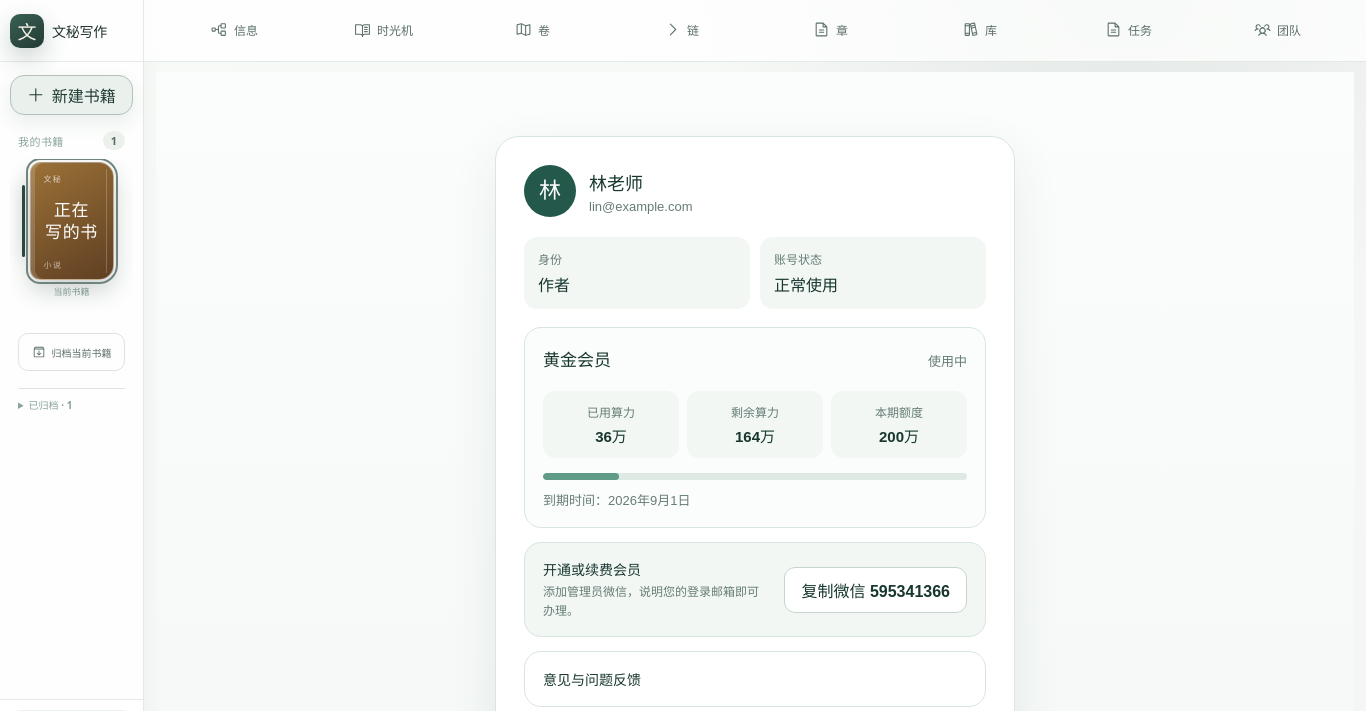
Test case: V7 author opening flow › 在当前页面归档并恢复书籍，保留内容且不提供永久删除入口
Click the button "归档当前书籍": (72, 352) [18,333,125,371]
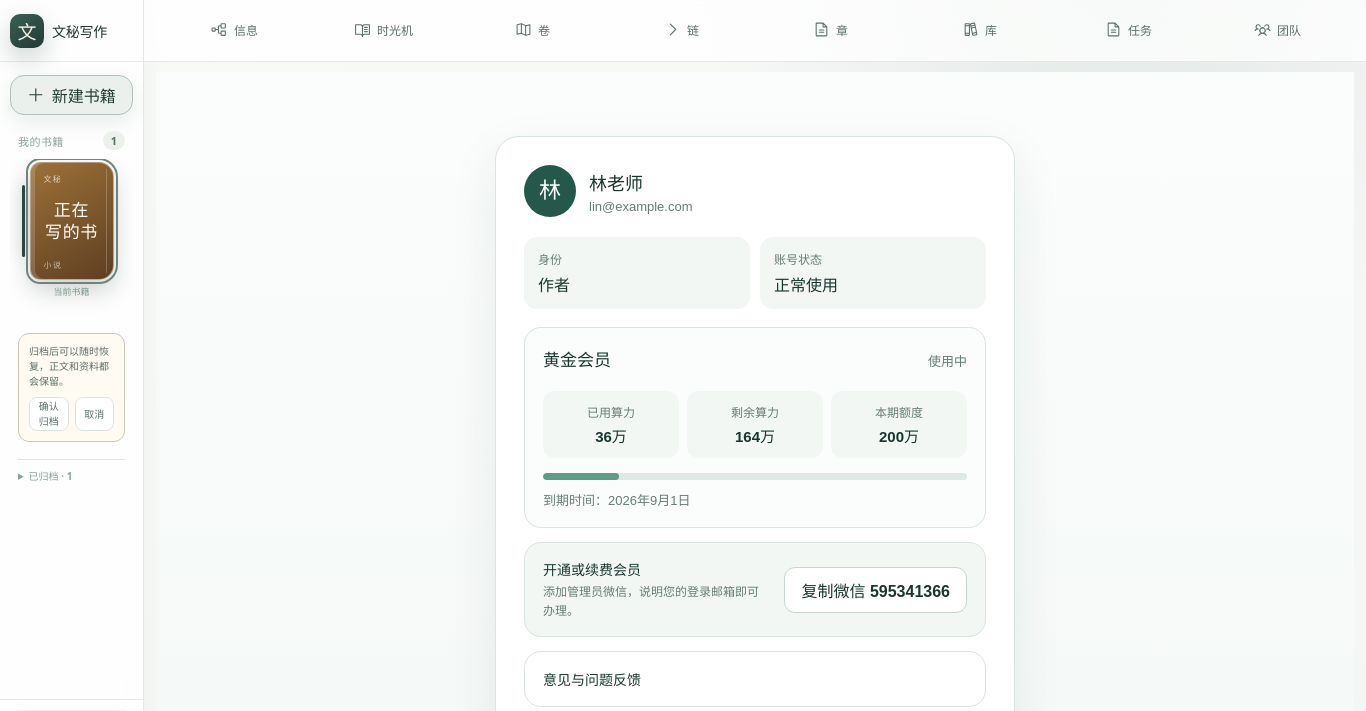
Check: the text "归档后可以随时恢复，正文和资料都会保留。" is shown, box [29,344,114,389]
Click the button "确认归档": (49, 414) [29,397,68,431]
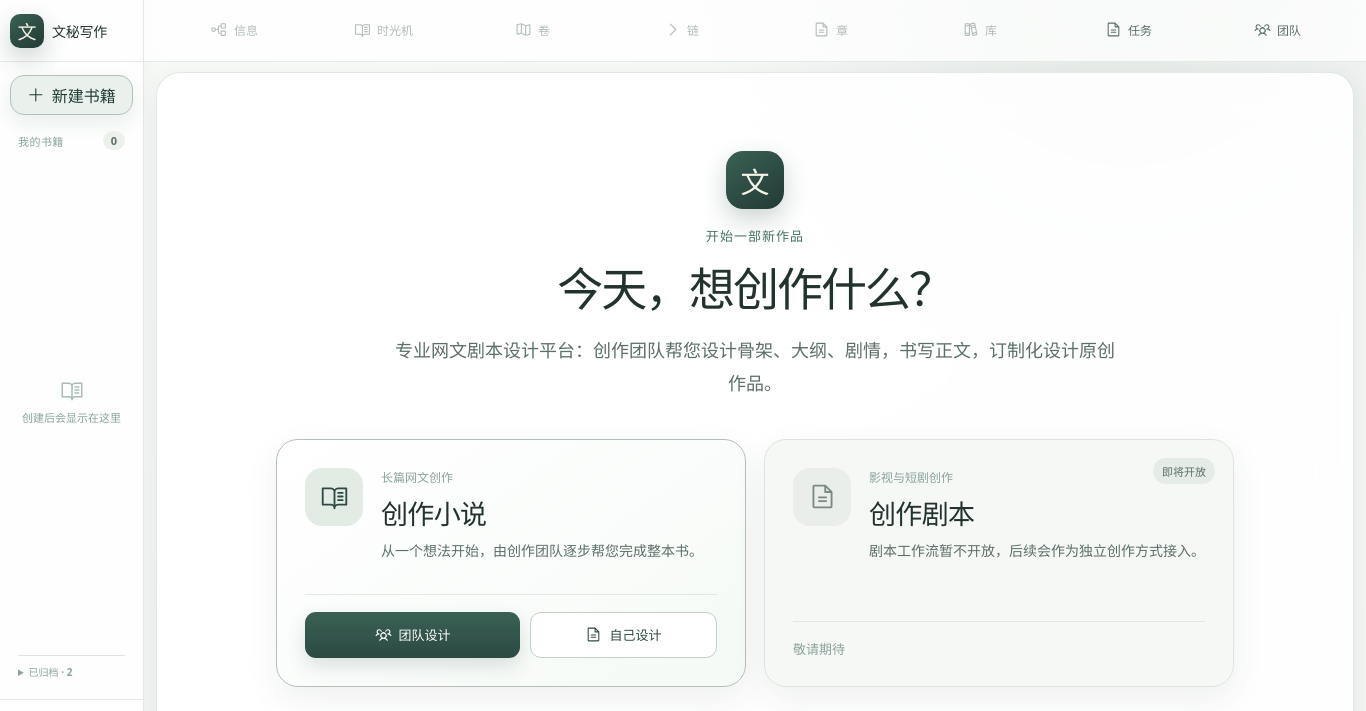
Check: the heading "已归档 · 2" is shown
Click the heading "已归档 · 2": (50, 672) [29,665,72,679]
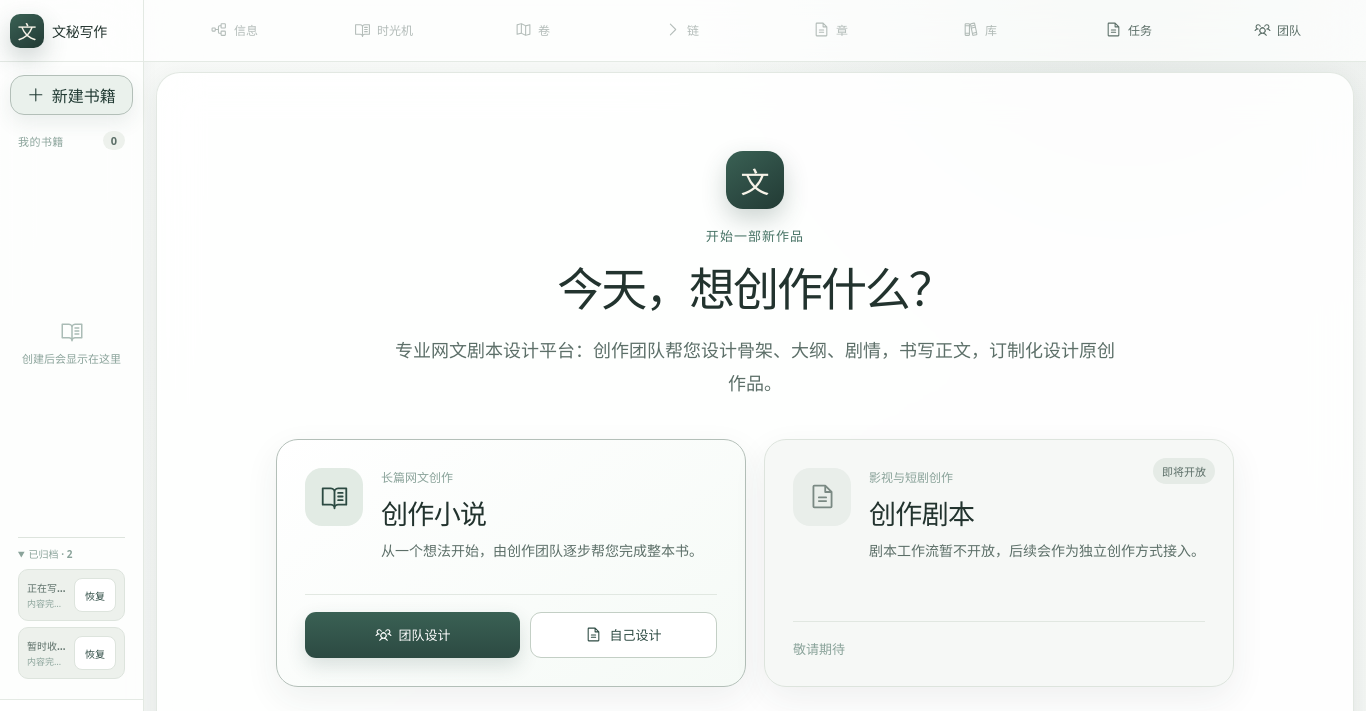
Click the button "恢复" next to "暂时收起的书": (95, 653) [74,636,116,670]
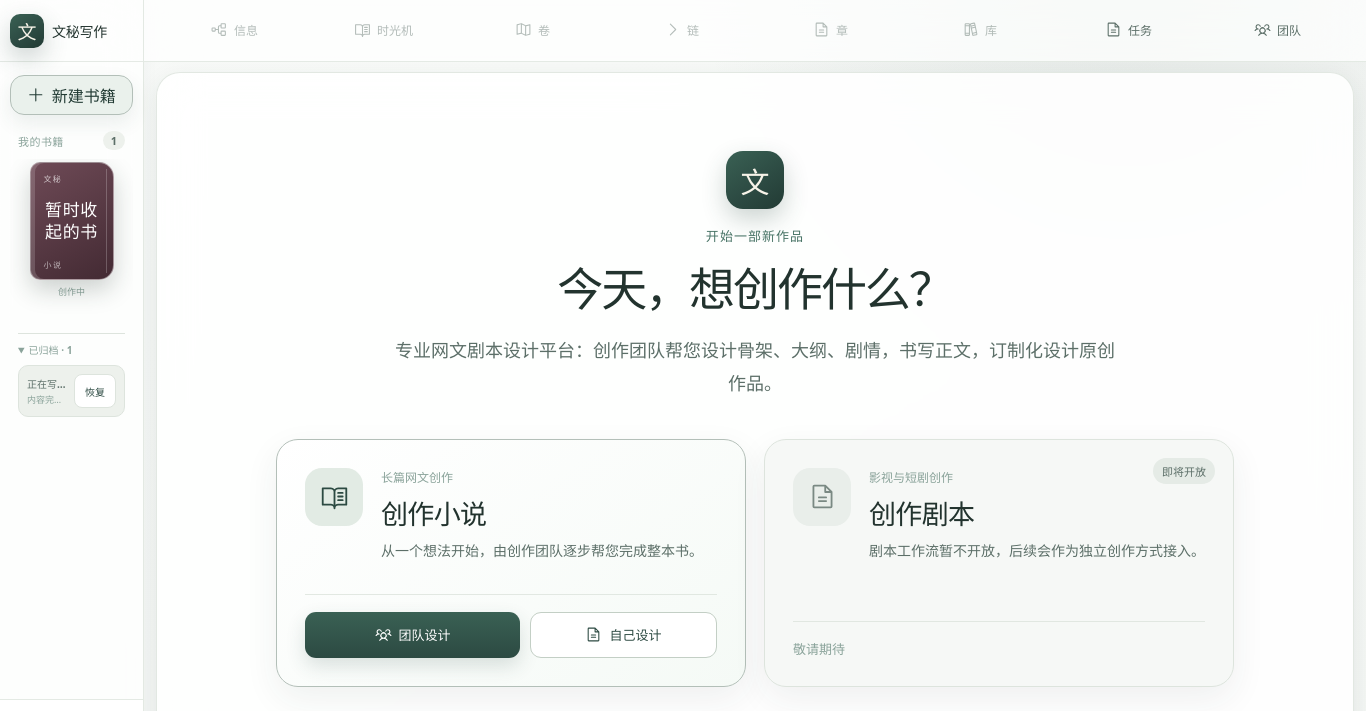
Check: the heading "已归档 · 1" is shown, box [29,343,72,357]
